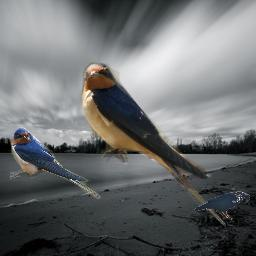Crow: (193, 191, 250, 220)
Swallow: (80, 62, 228, 228), (10, 127, 101, 199)
